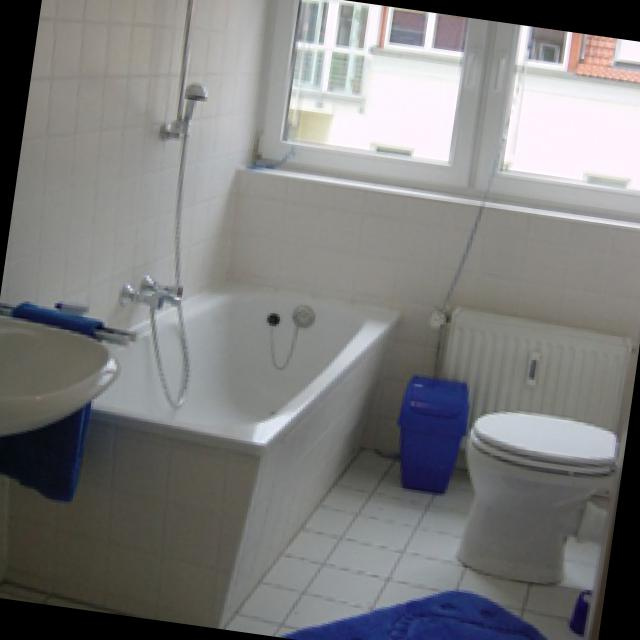2001: (265, 0, 491, 185), (483, 22, 640, 211)
bath: (9, 277, 402, 625)
bath occluded: (125, 0, 212, 409)
radiator occluded: (433, 300, 634, 425)
rug -partially obscured-: (286, 587, 552, 640)
sink basin: (0, 311, 122, 431)
toilet bowl: (459, 410, 620, 580)
towel basket: (0, 299, 106, 497)
towel ring: (96, 321, 139, 342)
trash compactor: (402, 372, 468, 489)
